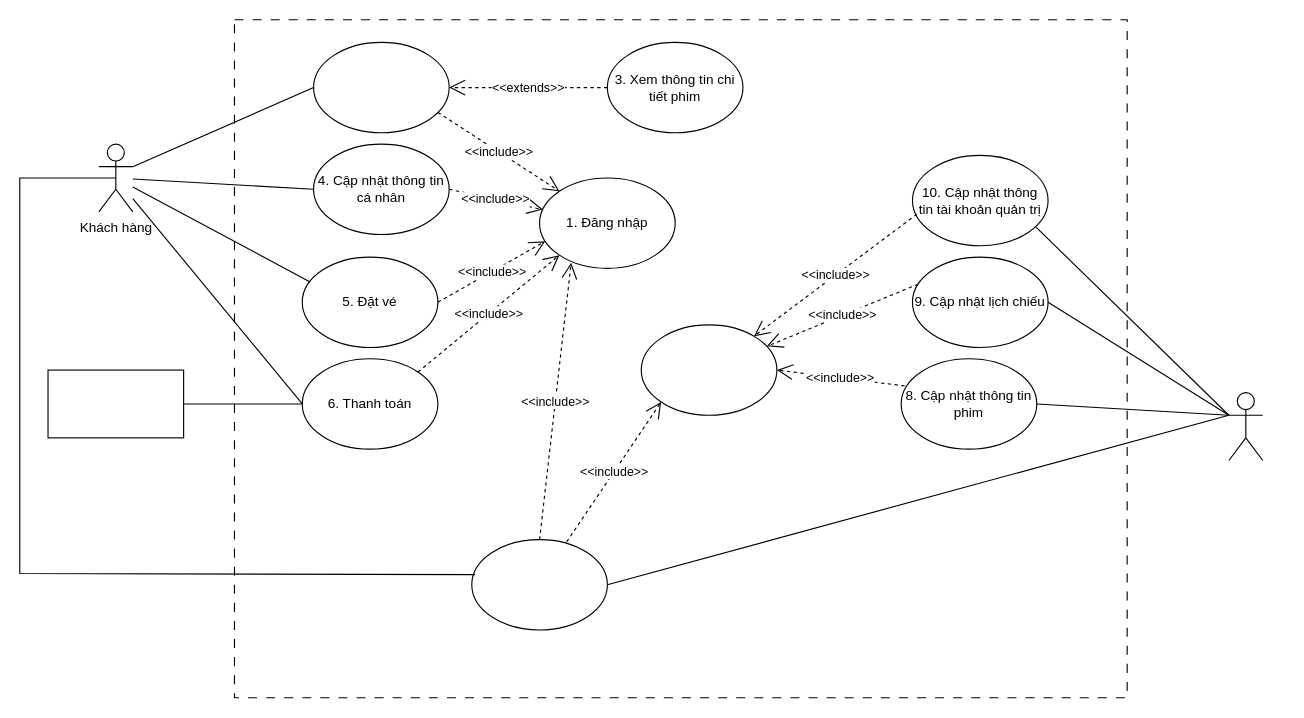
Some shapes in this 1304 by 718 pixel diagram are drawn without their labels. Here are the shapes that lost their labels. From the top down, the centre of each, then its label:
At point 380,87: "2. Tìm kiếm phim".
At point 708,369: "7. Đăng nhập quản trị".
At point 115,403: "<<actor>> Hệ thống thanh toán".
At point 1245,426: "Quản trị viên".
At point 539,584: "11. Đăng xuất".
